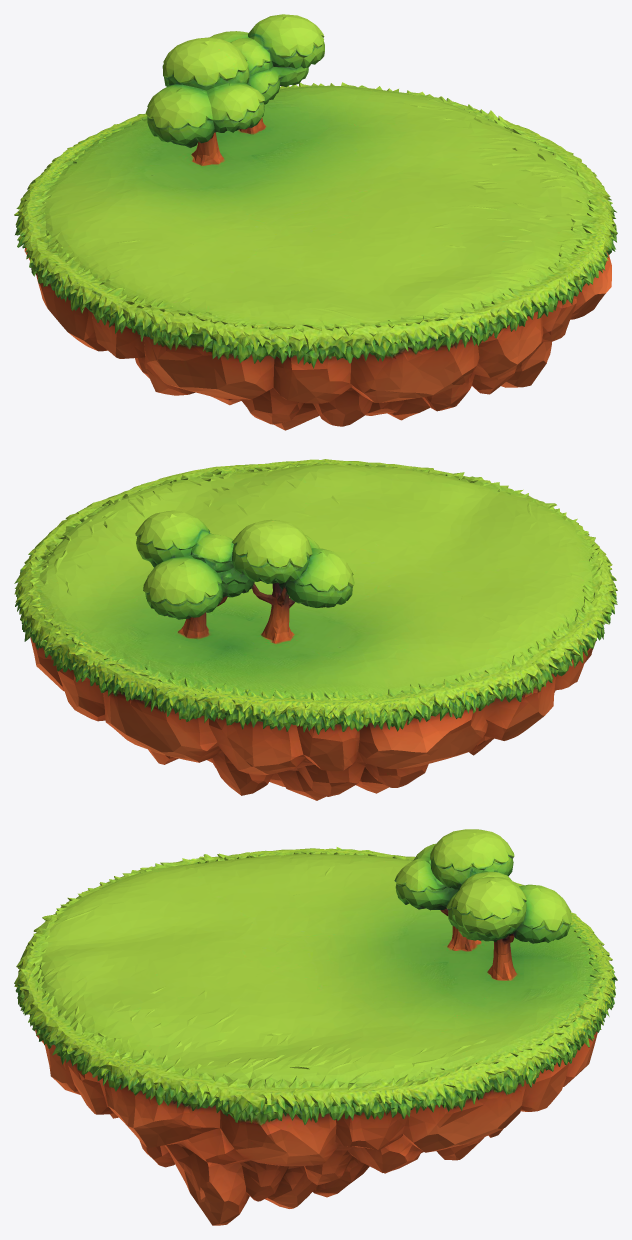
File: TERRAIN_1_summer.glb
3 renders of one model, top to bottom at view 1: azimuth 30°, elevation 25°; view 2: azimuth 150°, elevation 25°; view 3: azimuth 270°, elevation 25°, orthographic.
Parts seen in each view (by area): view 1: tripo_node_667d3ea3-317d-45d4-86ce-2dbd57daf0af; view 2: tripo_node_667d3ea3-317d-45d4-86ce-2dbd57daf0af; view 3: tripo_node_667d3ea3-317d-45d4-86ce-2dbd57daf0af.
Part boxes in pixels (box(x1,y1,x2,y2)): tripo_node_667d3ea3-317d-45d4-86ce-2dbd57daf0af: box(14, 14, 617, 430); tripo_node_667d3ea3-317d-45d4-86ce-2dbd57daf0af: box(14, 459, 617, 800); tripo_node_667d3ea3-317d-45d4-86ce-2dbd57daf0af: box(14, 829, 617, 1225).
Bounding box in the file's own units: 1 × 0.5679 × 0.9973.
1 material, 1 textured.
